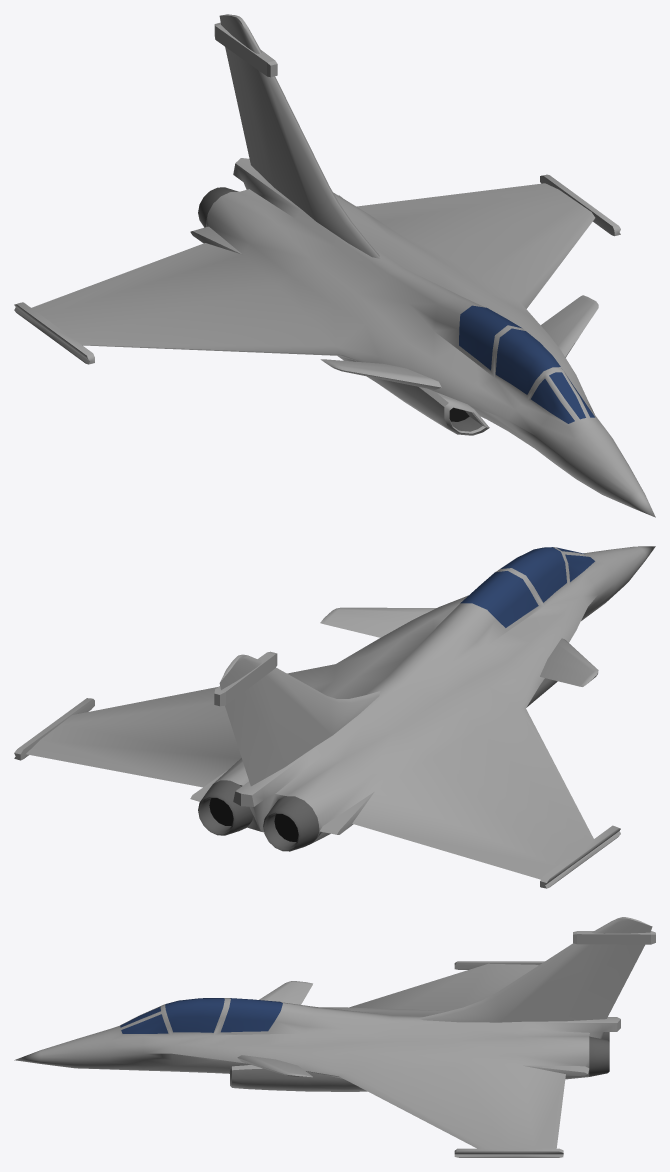
Rendered from skyfire-interceptor-rafale.glb.
3 views of the same model, one above another, from view 1: azimuth 30°, elevation 25°; view 2: azimuth 150°, elevation 25°; view 3: azimuth 270°, elevation 25° (orthographic). The views are drawn at different scales.
Visible parts, largest first — view 1: skyfire-interceptor-rafale; view 2: skyfire-interceptor-rafale; view 3: skyfire-interceptor-rafale.
Part boxes in pixels (left/top/right/bottom): skyfire-interceptor-rafale: left=14, top=14, right=655, bottom=517; skyfire-interceptor-rafale: left=14, top=546, right=655, bottom=888; skyfire-interceptor-rafale: left=14, top=917, right=655, bottom=1157.
Size of the model in its own units: 107 by 41.71 by 152.
